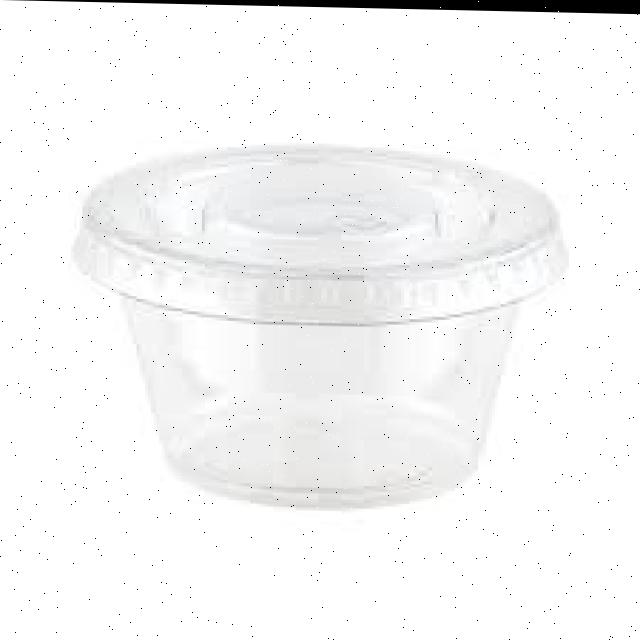disposable: (63, 111, 586, 531)
